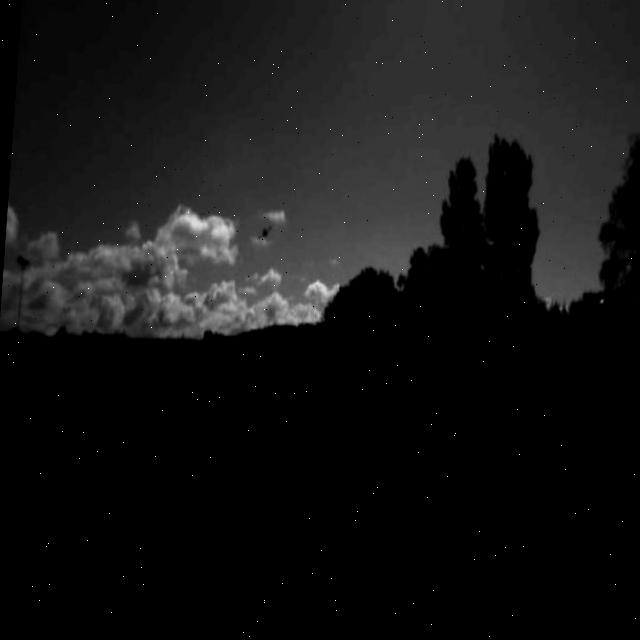drone: (255, 220, 273, 244)
